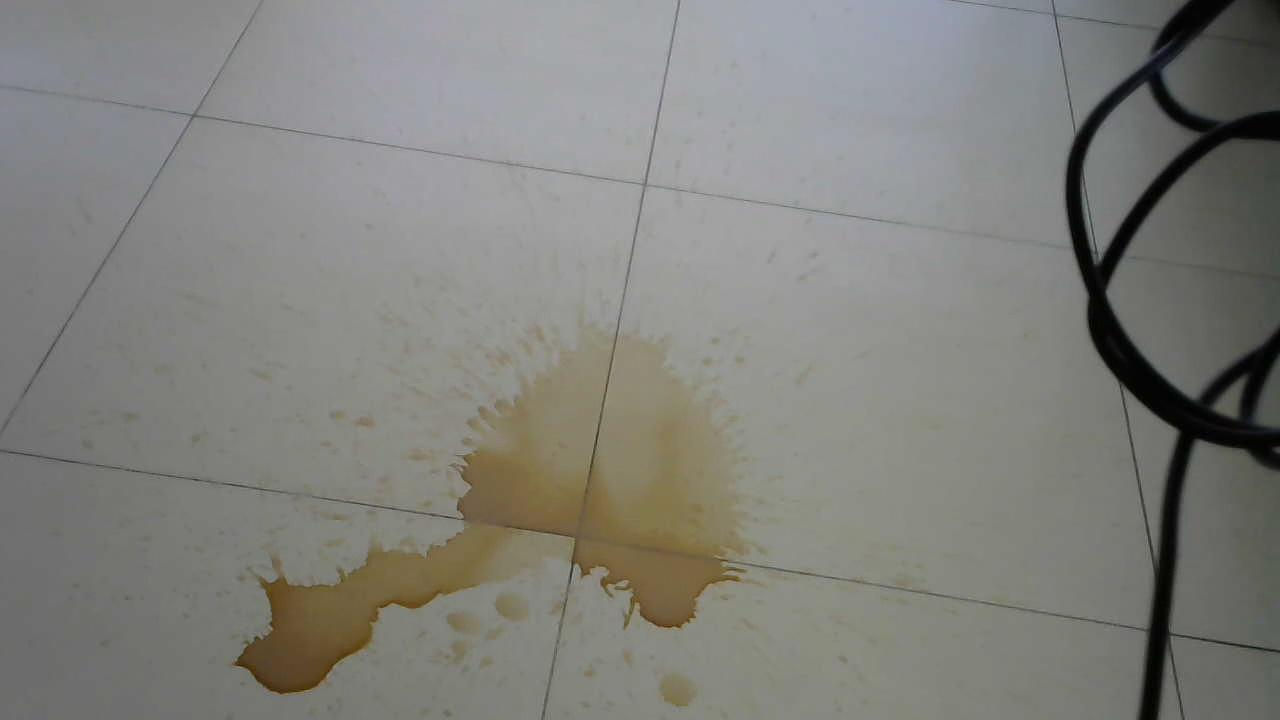dirty_floor: (204, 302, 786, 714)
